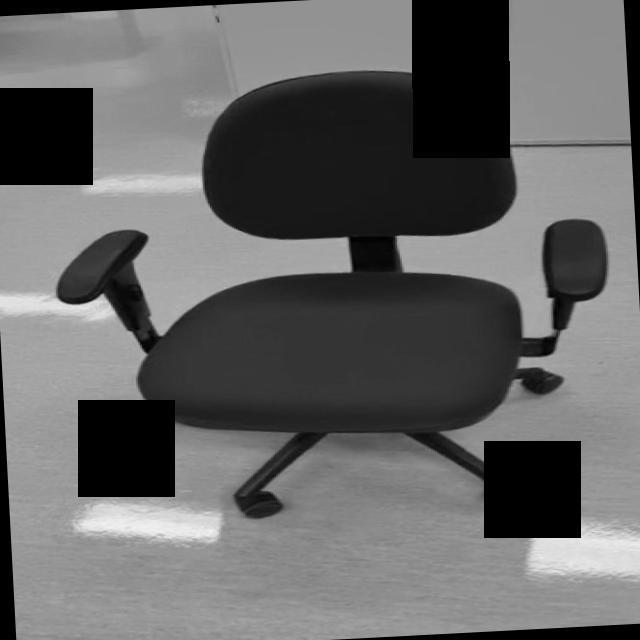chair: (47, 58, 620, 528)
